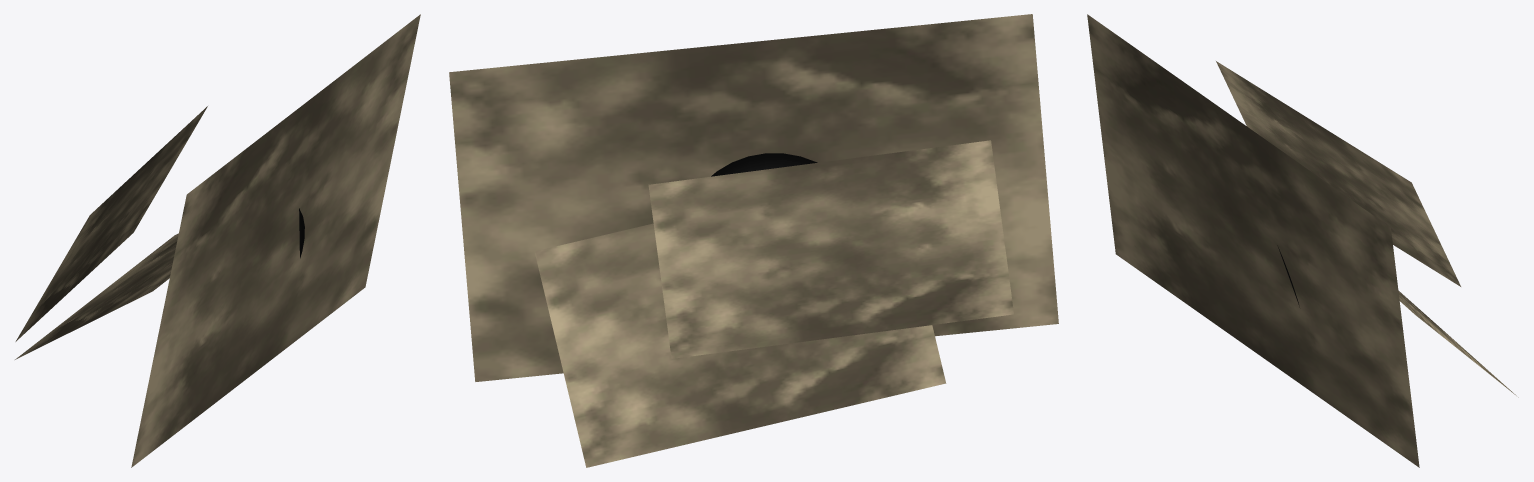
Rendered from env_space_kessel_01_pre.glb.
3 renders of one model, left to right at view 1: azimuth 30°, elevation 25°; view 2: azimuth 150°, elevation 25°; view 3: azimuth 270°, elevation 25°, orthographic. The views are drawn at different scales.
Parts seen in each view (by area): view 1: GameObject, GameObject (3), GameObject (1); view 2: GameObject, GameObject (3), GameObject (1), planet_glow_mesh; view 3: GameObject, GameObject (3), GameObject (1).
Part boxes in pixels (left/top/right/bottom): GameObject: left=131, top=14, right=420, bottom=467; GameObject (3): left=15, top=106, right=207, bottom=341; GameObject (1): left=15, top=233, right=178, bottom=359; GameObject: left=449, top=14, right=1058, bottom=381; GameObject (3): left=648, top=140, right=1013, bottom=358; GameObject (1): left=534, top=223, right=946, bottom=467; planet_glow_mesh: left=711, top=153, right=817, bottom=176; GameObject: left=1087, top=14, right=1419, bottom=467; GameObject (3): left=1216, top=61, right=1460, bottom=286; GameObject (1): left=1398, top=290, right=1518, bottom=397.
Size of the model in its own units: 2478 by 1568 by 2088.
Materials: 4 (4 with a texture image).
